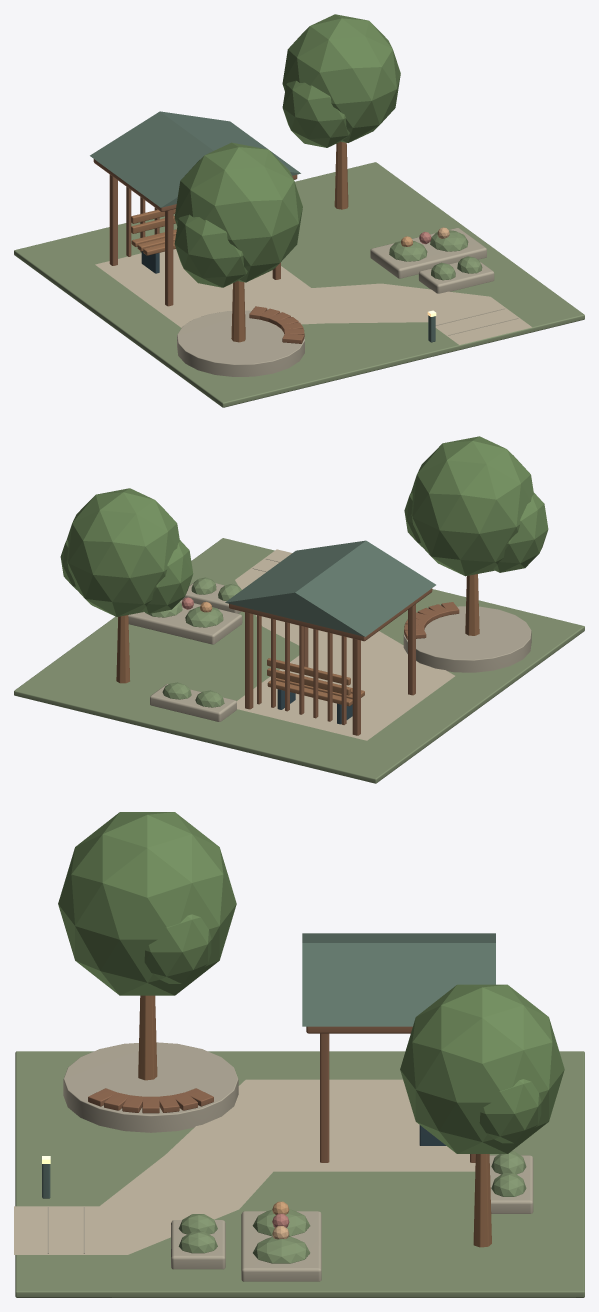
File: park.glb
3 renders of one model, top to bottom at view 1: azimuth 30°, elevation 25°; view 2: azimuth 150°, elevation 25°; view 3: azimuth 270°, elevation 25°, orthographic. The views are drawn at different scales.
Visible parts, largest first — view 1: park_Park_Turf, park_Walk_and_Seating_Court, park_Tree_Crown, park_Tree_Crown.003, park_Gable_Roof, park_Circular_Seat_Plinth, park_Tree_Crown.001, park_Tree_Crown.004, park_Low_Stone_Planting_Bed, park_Low_Stone_Planting_Bed.001, park_Pavilion_Post.001, park_Tree_Trunk.001 (+4 smaller); view 2: park_Park_Turf, park_Tree_Crown, park_Gable_Roof, park_Tree_Crown.003, park_Walk_and_Seating_Court, park_Circular_Seat_Plinth, park_Tree_Crown.001, park_Low_Stone_Planting_Bed, park_Tree_Crown.004, park_Low_Stone_Planting_Bed.002, park_Pavilion_Eaves, park_Pavilion_Post (+13 smaller); view 3: park_Park_Turf, park_Walk_and_Seating_Court, park_Tree_Crown, park_Tree_Crown.003, park_Gable_Roof, park_Circular_Seat_Plinth, park_Low_Stone_Planting_Bed, park_Tree_Crown.002, park_Tree_Crown.005, park_Low_Stone_Planting_Bed.001, park_Tree_Trunk.001, park_Tree_Trunk (+9 smaller).
Boxes of the visible parts, bbox=[...] form: park_Park_Turf: bbox=[14, 162, 584, 407]; park_Walk_and_Seating_Court: bbox=[95, 249, 531, 344]; park_Tree_Crown: bbox=[174, 142, 302, 282]; park_Tree_Crown.003: bbox=[282, 14, 400, 142]; park_Gable_Roof: bbox=[90, 111, 300, 207]; park_Circular_Seat_Plinth: bbox=[177, 310, 304, 376]; park_Tree_Crown.001: bbox=[174, 214, 247, 287]; park_Tree_Crown.004: bbox=[282, 80, 349, 147]; park_Low_Stone_Planting_Bed: bbox=[370, 228, 486, 278]; park_Low_Stone_Planting_Bed.001: bbox=[418, 262, 494, 293]; park_Pavilion_Post.001: bbox=[165, 209, 173, 306]; park_Tree_Trunk.001: bbox=[334, 141, 348, 209]; park_Park_Turf: bbox=[14, 538, 584, 783]; park_Tree_Crown: bbox=[411, 436, 533, 576]; park_Gable_Roof: bbox=[225, 540, 435, 636]; park_Tree_Crown.003: bbox=[66, 488, 179, 616]; park_Walk_and_Seating_Court: bbox=[235, 549, 454, 740]; park_Circular_Seat_Plinth: bbox=[403, 606, 531, 672]; park_Tree_Crown.001: bbox=[493, 493, 548, 572]; park_Low_Stone_Planting_Bed: bbox=[128, 600, 242, 644]; park_Tree_Crown.004: bbox=[142, 540, 193, 613]; park_Low_Stone_Planting_Bed.002: bbox=[150, 684, 236, 721]; park_Pavilion_Eaves: bbox=[229, 588, 432, 641]; park_Pavilion_Post: bbox=[352, 638, 360, 735]; park_Park_Turf: bbox=[15, 1051, 584, 1297]; park_Walk_and_Seating_Court: bbox=[14, 1079, 475, 1254]; park_Tree_Crown: bbox=[58, 812, 236, 995]; park_Tree_Crown.003: bbox=[400, 984, 564, 1153]; park_Gable_Roof: bbox=[302, 933, 495, 1026]; park_Circular_Seat_Plinth: bbox=[63, 1042, 238, 1132]; park_Low_Stone_Planting_Bed: bbox=[241, 1211, 321, 1281]; park_Tree_Crown.002: bbox=[144, 914, 211, 983]; park_Tree_Crown.005: bbox=[479, 1079, 541, 1143]; park_Low_Stone_Planting_Bed.001: bbox=[171, 1220, 225, 1269]; park_Tree_Trunk.001: bbox=[473, 1154, 491, 1247]; park_Tree_Trunk: bbox=[138, 995, 157, 1080].
Bounding box in the file's own units: 7.94 × 4.4 × 7.96.
